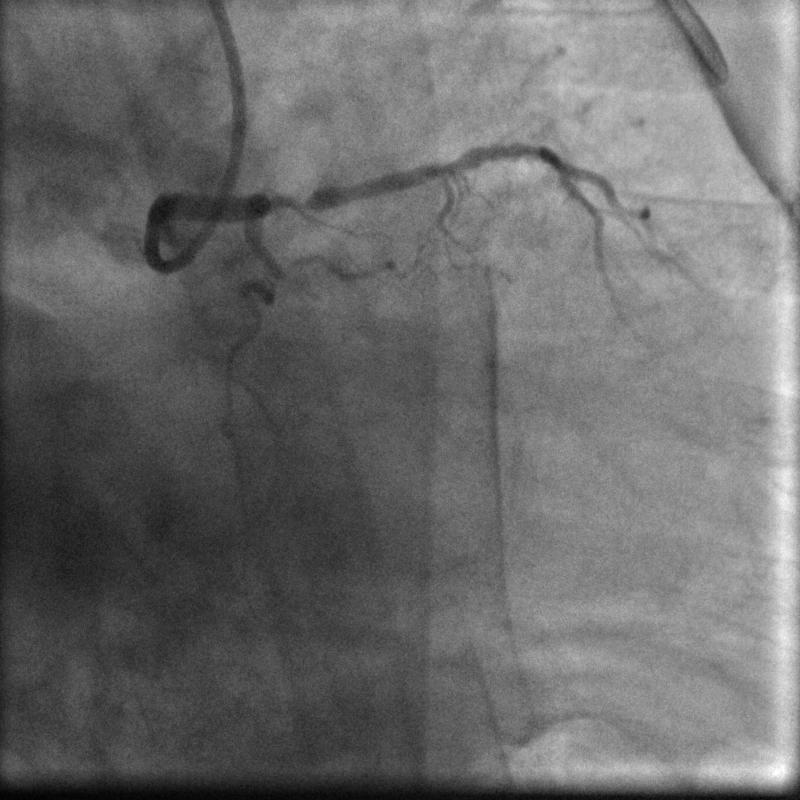Stenosis: (260, 186, 324, 217)
